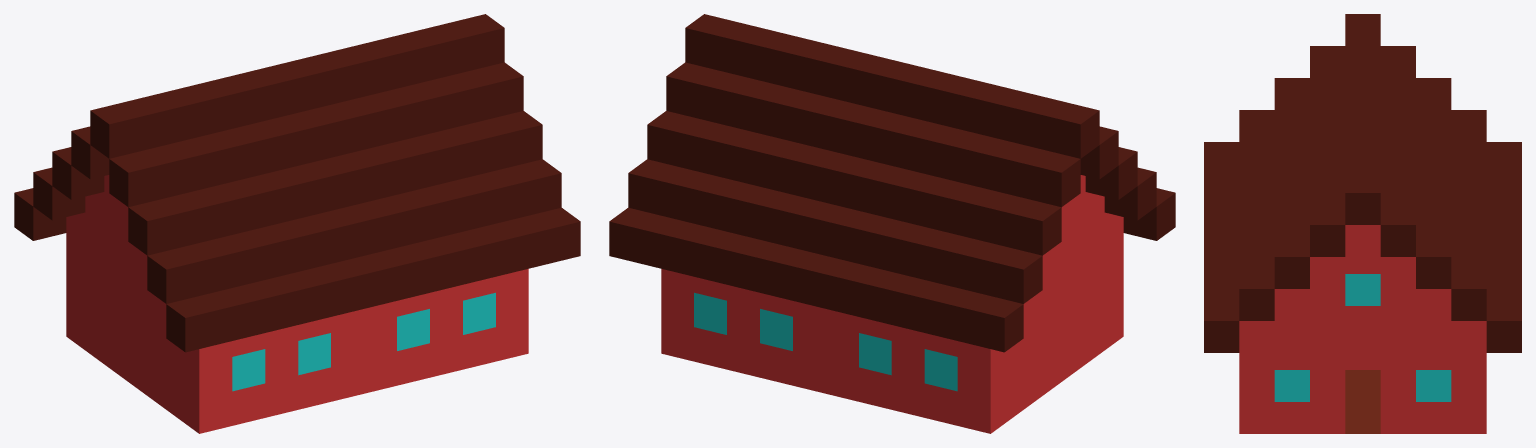
Rendered from house.obj.
3 views of the same model, side by side, from view 1: azimuth 30°, elevation 25°; view 2: azimuth 150°, elevation 25°; view 3: azimuth 270°, elevation 25° (orthographic). The views are drawn at different scales.
Size of the model in its own units: 1.2 by 0.8 by 0.9.
Materials: 1 (1 with a texture image).
